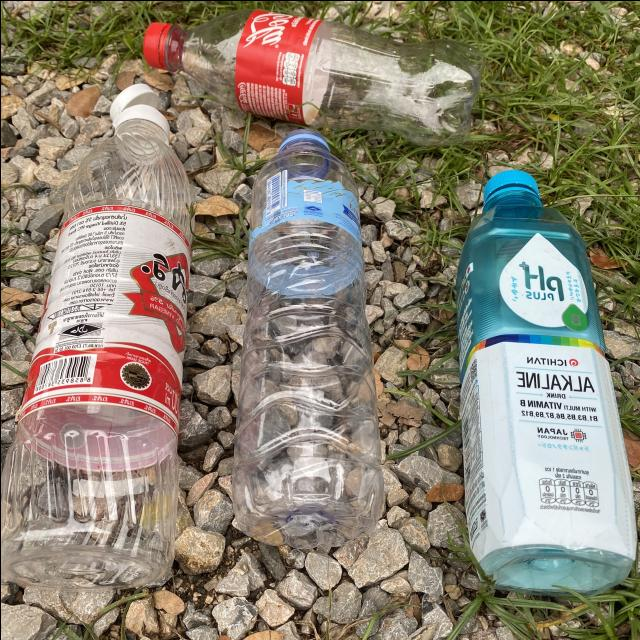plastik: (0, 82, 190, 590), (456, 169, 636, 593), (233, 129, 382, 548), (143, 9, 483, 145)
